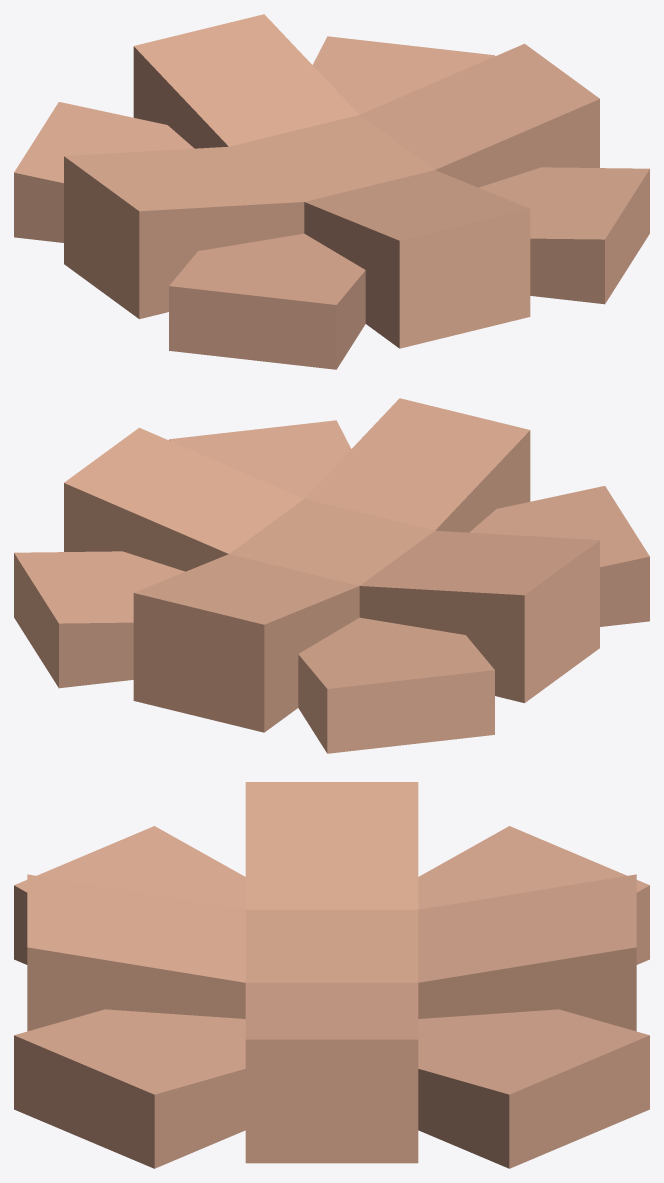
The model's file is campfire_logs.glb.
3 views of the same model, one above another, from view 1: azimuth 30°, elevation 25°; view 2: azimuth 150°, elevation 25°; view 3: azimuth 270°, elevation 25° (orthographic). The views are drawn at different scales.
Parts seen in each view (by area): view 1: campfire_logs; view 2: campfire_logs; view 3: campfire_logs.
Boxes of the visible parts, <box> form: campfire_logs: <box>14,14,649,369</box>; campfire_logs: <box>14,398,649,753</box>; campfire_logs: <box>14,782,649,1168</box>.
Size of the model in its own units: 0.2919 by 0.0626 by 0.2919.
Materials: 1 (1 with a texture image).
